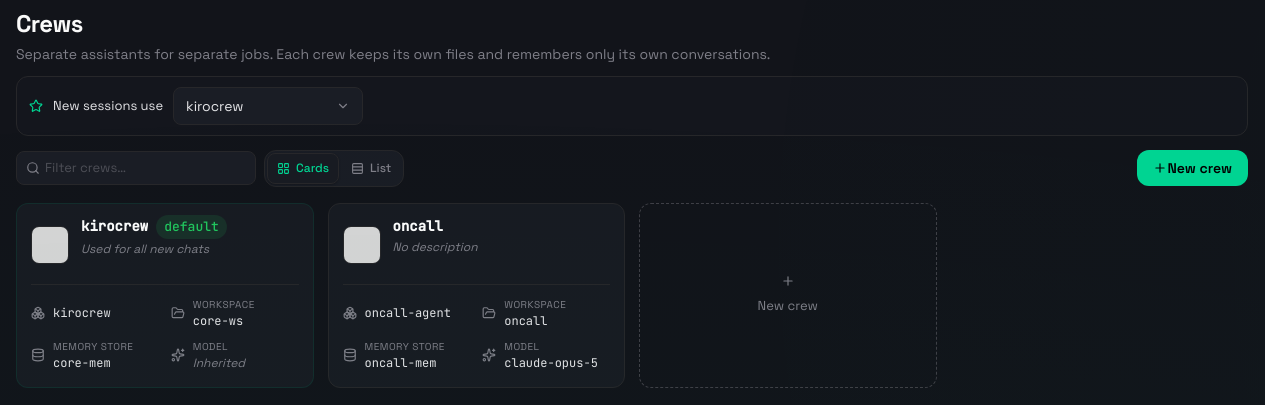
it: crew roster — description › falls back to the same text in the card and the row
Expected: the number of buttons with test id "crew-card" is 2, x1=16 y1=203 x2=314 y2=388; x1=328 y1=203 x2=625 y2=388
Expected: the text "No description" is shown, x1=392 y1=239 x2=478 y2=255
Click the button "List" at (371, 168), box x1=341 y1=153 x2=401 y2=184
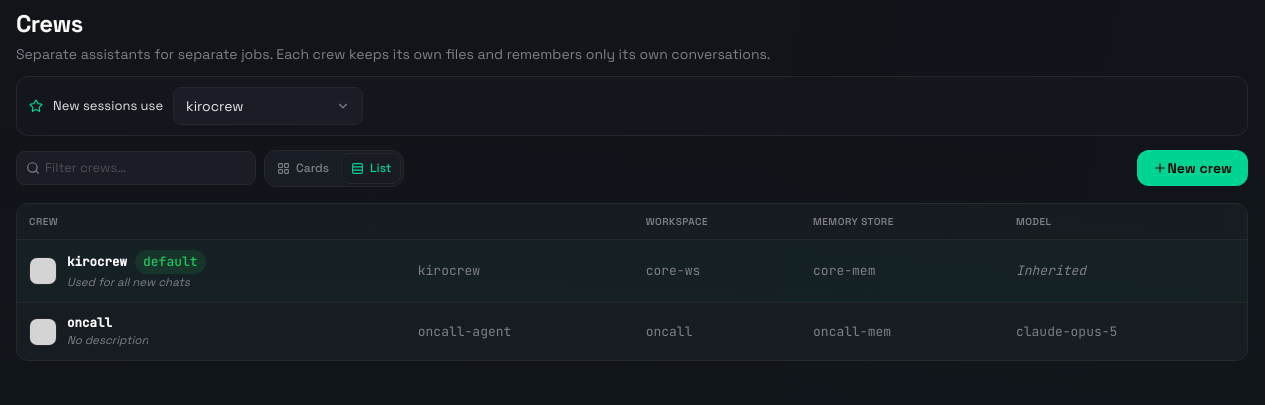
Expected: the text "No description" is shown, x1=67 y1=332 x2=148 y2=350
Expected: the table is shown, x1=17 y1=204 x2=1247 y2=360
